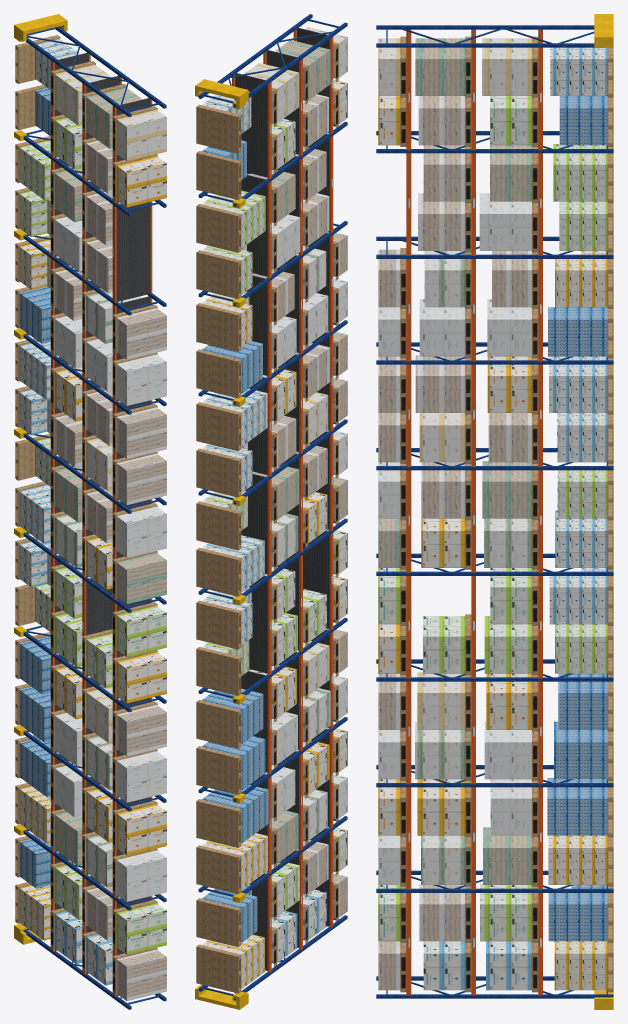
The model's file is racks_pe_n.gltf.
The picture shows the model from 3 angles, left to right: view 1: azimuth 30°, elevation 25°; view 2: azimuth 150°, elevation 25°; view 3: azimuth 270°, elevation 25°; orthographic projection. The views are drawn at different scales.
Visible parts, largest first — view 1: racks_pe_n; view 2: racks_pe_n; view 3: racks_pe_n.
Boxes of the visible parts, x1,y1,x2,y2 form: racks_pe_n: [14, 14, 166, 1009]; racks_pe_n: [195, 14, 347, 1009]; racks_pe_n: [376, 14, 613, 1009].
Size of the model in its own units: 1.27 by 24.86 by 5.5.
Materials: 18 (18 with a texture image).
